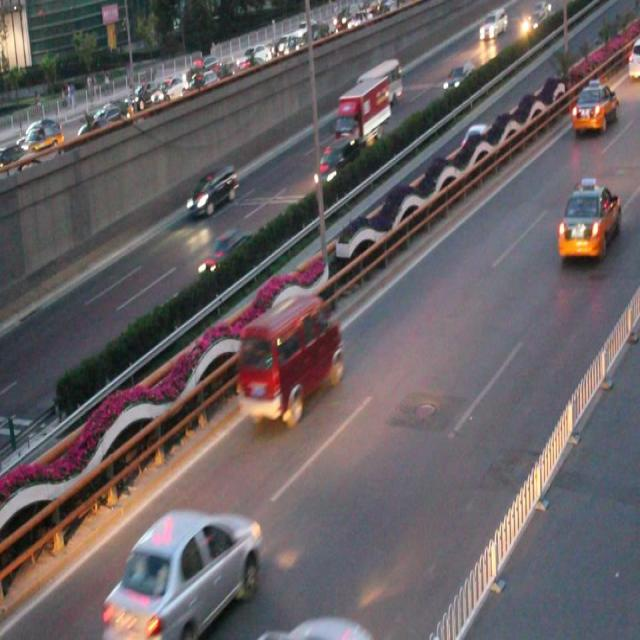bus: (334, 78, 389, 142)
car: (101, 509, 261, 640), (555, 181, 621, 260), (259, 608, 374, 640), (196, 229, 252, 281), (570, 81, 618, 134), (313, 138, 358, 182)
truck: (240, 292, 343, 423), (184, 168, 239, 214)
